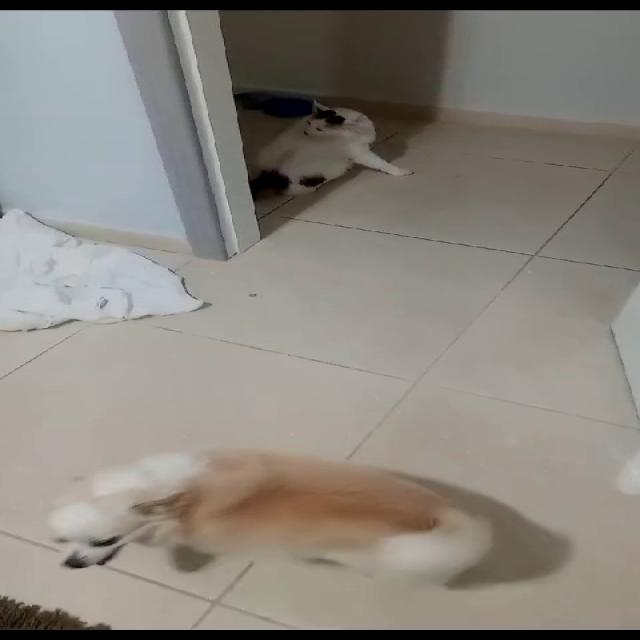Simba: (243, 85, 409, 202)
Theo: (39, 440, 482, 615)
